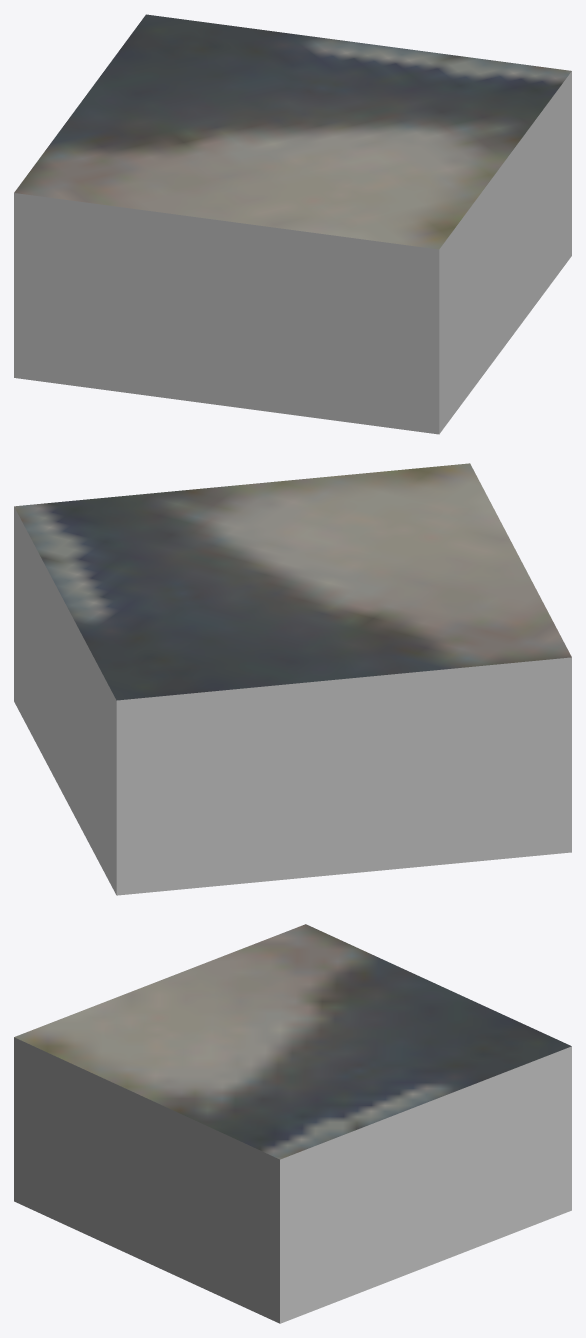
Rendered from DEBW_0010007Txc5.gltf.
The picture shows the model from 3 angles, top to bottom: view 1: azimuth 30°, elevation 25°; view 2: azimuth 150°, elevation 25°; view 3: azimuth 270°, elevation 25°; orthographic projection. The views are drawn at different scales.
Parts seen in each view (by area): view 1: Z_UP; view 2: Z_UP; view 3: Z_UP.
Part boxes in pixels (<box>): Z_UP: <box>14,14,571,434</box>; Z_UP: <box>14,463,571,895</box>; Z_UP: <box>14,924,571,1323</box>.
Bounding box in the file's own units: 8.02 × 2.61 × 8.03.
2 materials, 1 textured.
